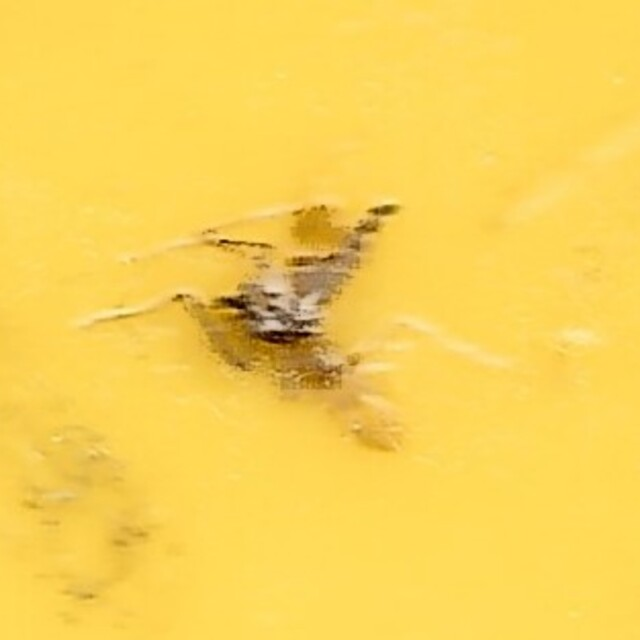Nematocera: (204, 183, 436, 457)
